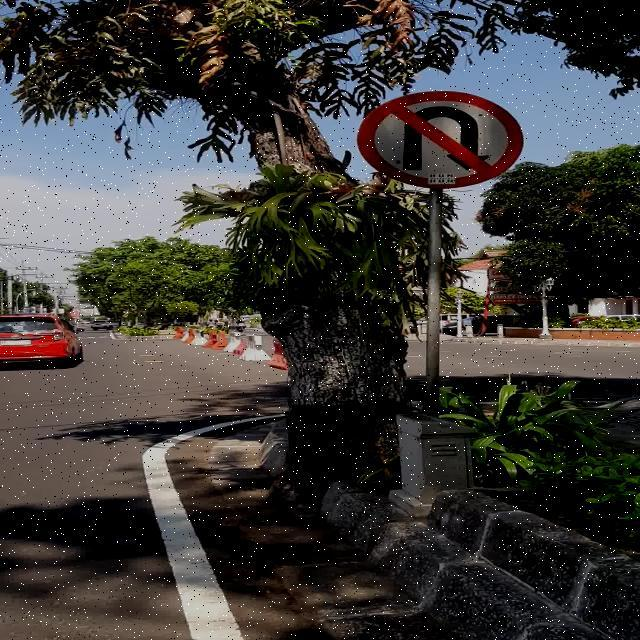Dilarang Putar Balik: (356, 90, 524, 188)
